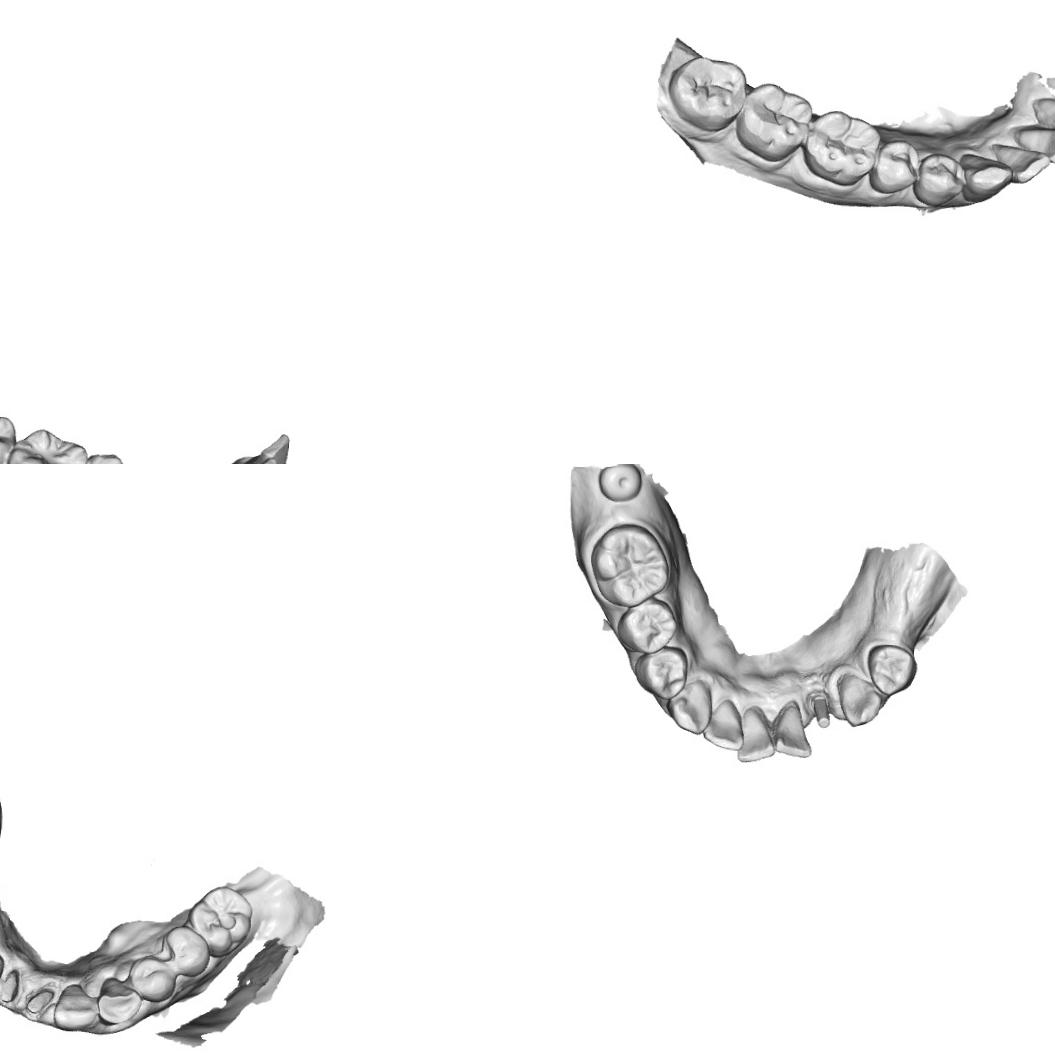abutment: (805, 690, 832, 729)
canine: (958, 149, 1017, 206), (834, 670, 884, 728), (666, 676, 714, 736), (96, 976, 144, 1027)
crown: (25, 985, 55, 1014), (0, 968, 20, 1004)
implant: (596, 464, 644, 504)
incisor: (988, 138, 1050, 186), (771, 698, 814, 758), (52, 982, 100, 1033), (736, 706, 777, 764), (702, 698, 746, 752), (1013, 124, 1055, 166), (258, 430, 291, 464), (1028, 95, 1055, 134)
molar: (587, 521, 675, 608), (732, 80, 818, 165), (664, 52, 750, 134), (804, 106, 881, 190), (185, 884, 254, 959), (6, 427, 92, 464)
premolar: (616, 597, 678, 655), (912, 150, 969, 210), (868, 136, 922, 198), (632, 644, 689, 701), (865, 640, 918, 698), (160, 924, 212, 979), (127, 954, 177, 1004), (80, 451, 138, 464)
